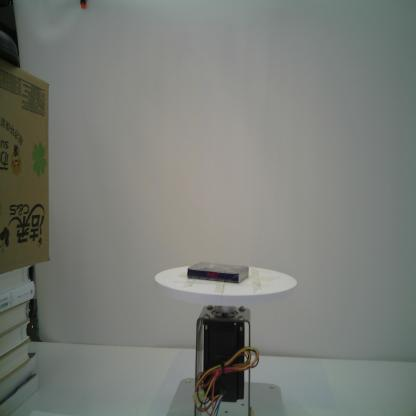Gum: (186, 260, 250, 286)
